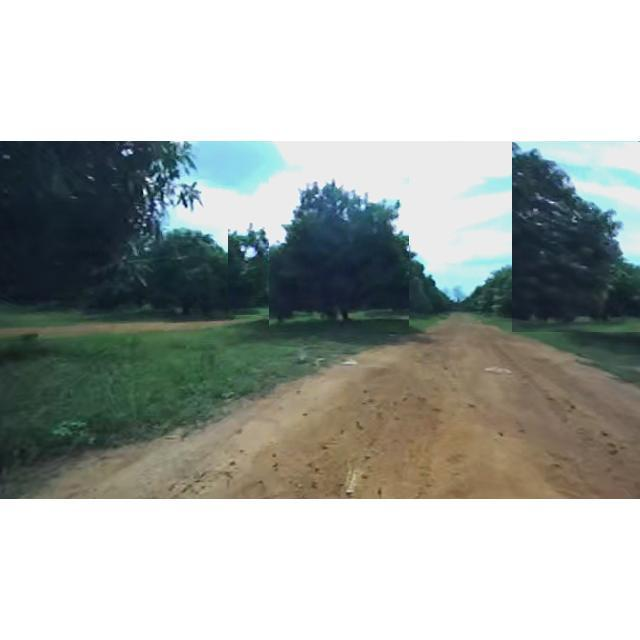tree: (0, 142, 206, 286), (512, 142, 640, 332), (269, 178, 409, 332), (125, 218, 245, 326), (483, 258, 559, 324), (228, 229, 284, 315), (386, 258, 434, 318)
